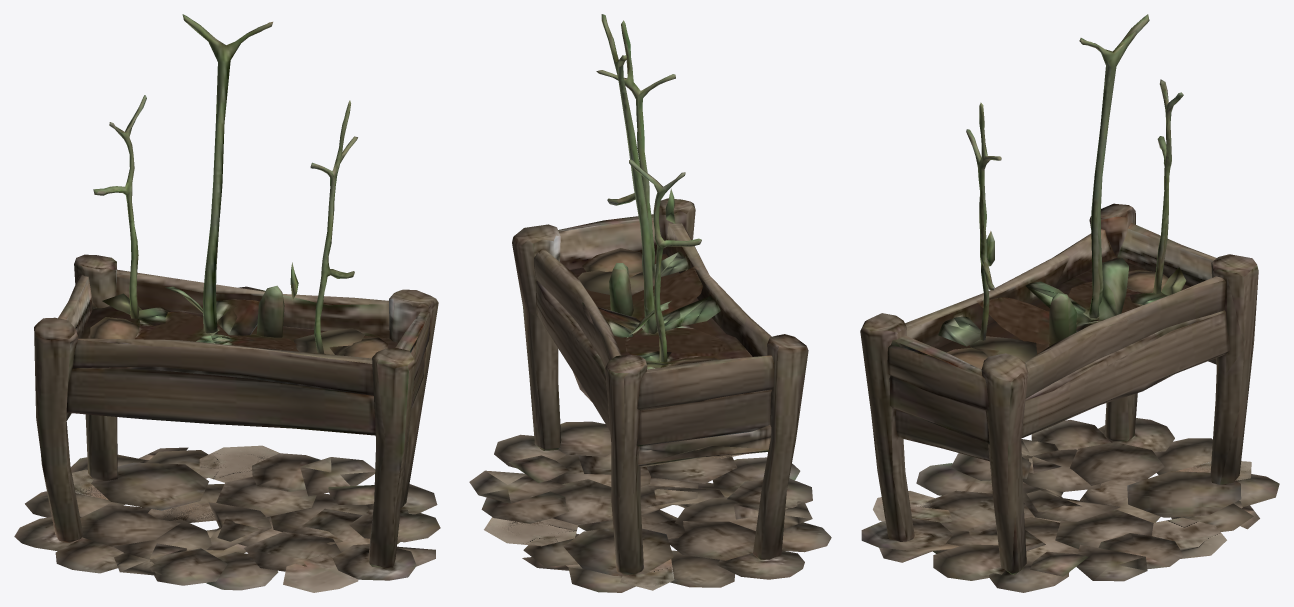
The model's file is jd_canteiro.glb.
The picture shows the model from 3 angles, left to right: view 1: azimuth 30°, elevation 25°; view 2: azimuth 150°, elevation 25°; view 3: azimuth 270°, elevation 25°; orthographic projection.
Visible parts, largest first — view 1: mesh_node.001; view 2: mesh_node.001; view 3: mesh_node.001.
Boxes of the visible parts, box(x1,y1,x2,y2) form: mesh_node.001: box(14, 14, 440, 592); mesh_node.001: box(469, 14, 831, 592); mesh_node.001: box(860, 14, 1279, 592).
Bounding box in the file's own units: 0.2631 × 0.3408 × 0.2632.
1 material, 1 textured.
